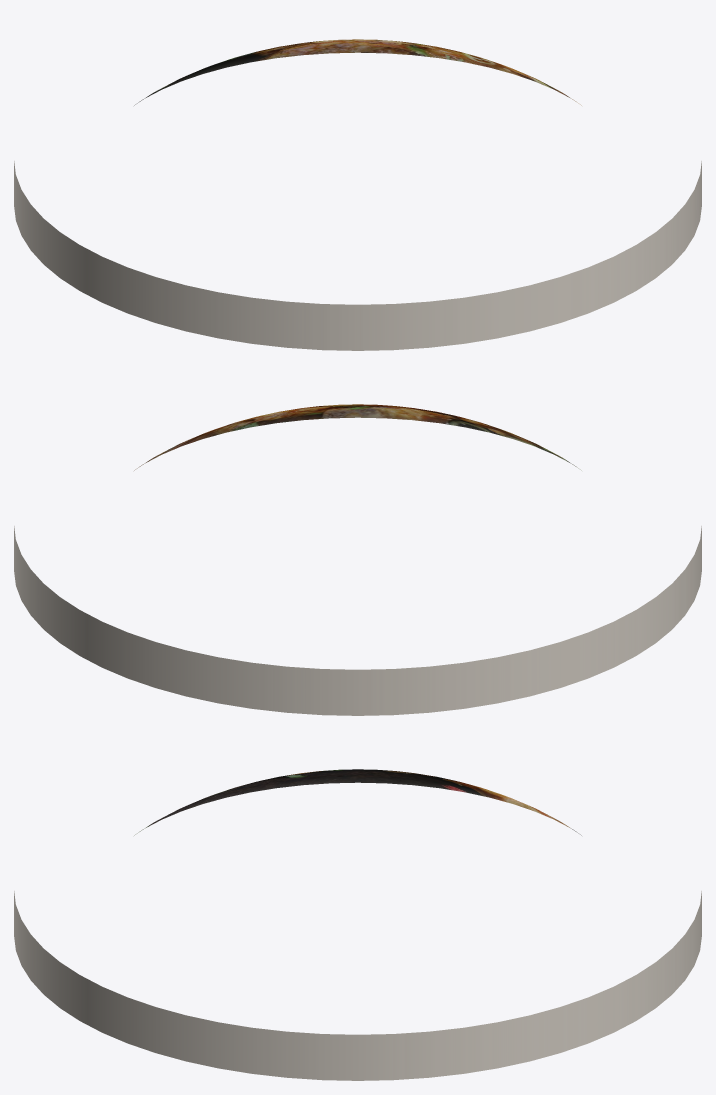
The model's file is chicken-karahi.glb.
The picture shows the model from 3 angles, top to bottom: view 1: azimuth 30°, elevation 25°; view 2: azimuth 150°, elevation 25°; view 3: azimuth 270°, elevation 25°; orthographic projection.
Visible parts, largest first — view 1: chicken-karahi; view 2: chicken-karahi; view 3: chicken-karahi.
Part boxes in pixels (<box>): chicken-karahi: <box>14,39,701,350</box>; chicken-karahi: <box>14,404,701,715</box>; chicken-karahi: <box>14,769,701,1080</box>.
Size of the model in its own units: 0.27 by 0.0553 by 0.27.
1 material, 1 textured.
